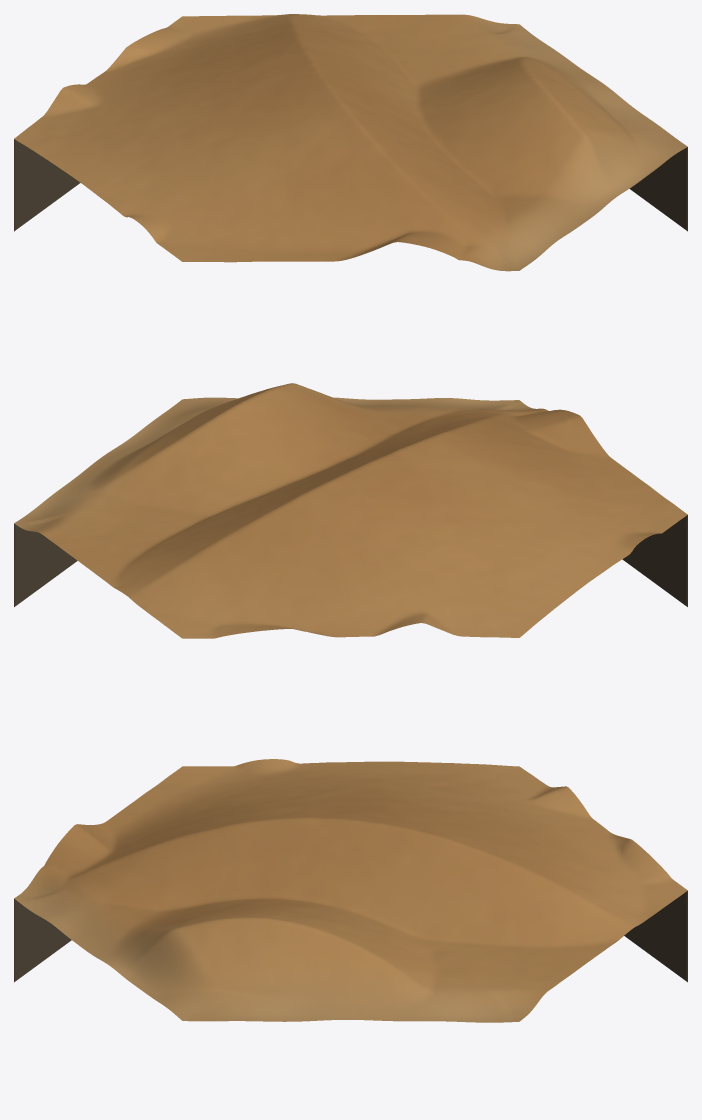
3 renders of one model, top to bottom at view 1: azimuth 30°, elevation 25°; view 2: azimuth 150°, elevation 25°; view 3: azimuth 270°, elevation 25°, orthographic.
Visible parts, largest first — view 1: terrain, hex_side_cut; view 2: terrain, hex_side_cut; view 3: terrain, hex_side_cut.
Part boxes in pixels (<box>): terrain: <box>14,14,687,271</box>; hex_side_cut: <box>14,139,687,231</box>; terrain: <box>14,383,687,638</box>; hex_side_cut: <box>14,515,687,606</box>; terrain: <box>14,759,687,1022</box>; hex_side_cut: <box>14,891,687,982</box>.
Bounding box in the file's own units: 4330 × 1240 × 5000.
